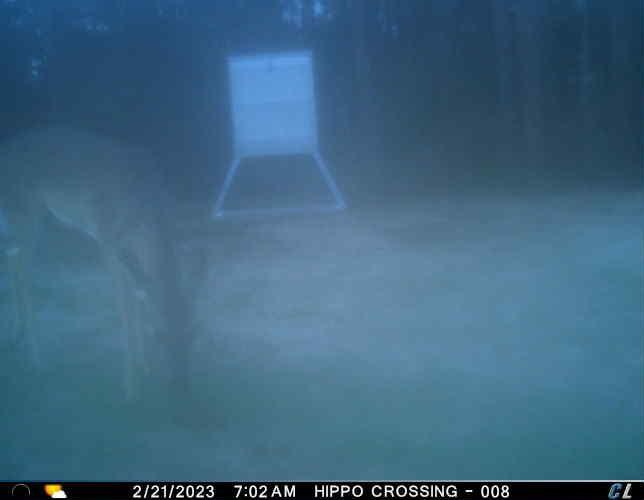Deer: (0, 116, 200, 407)
